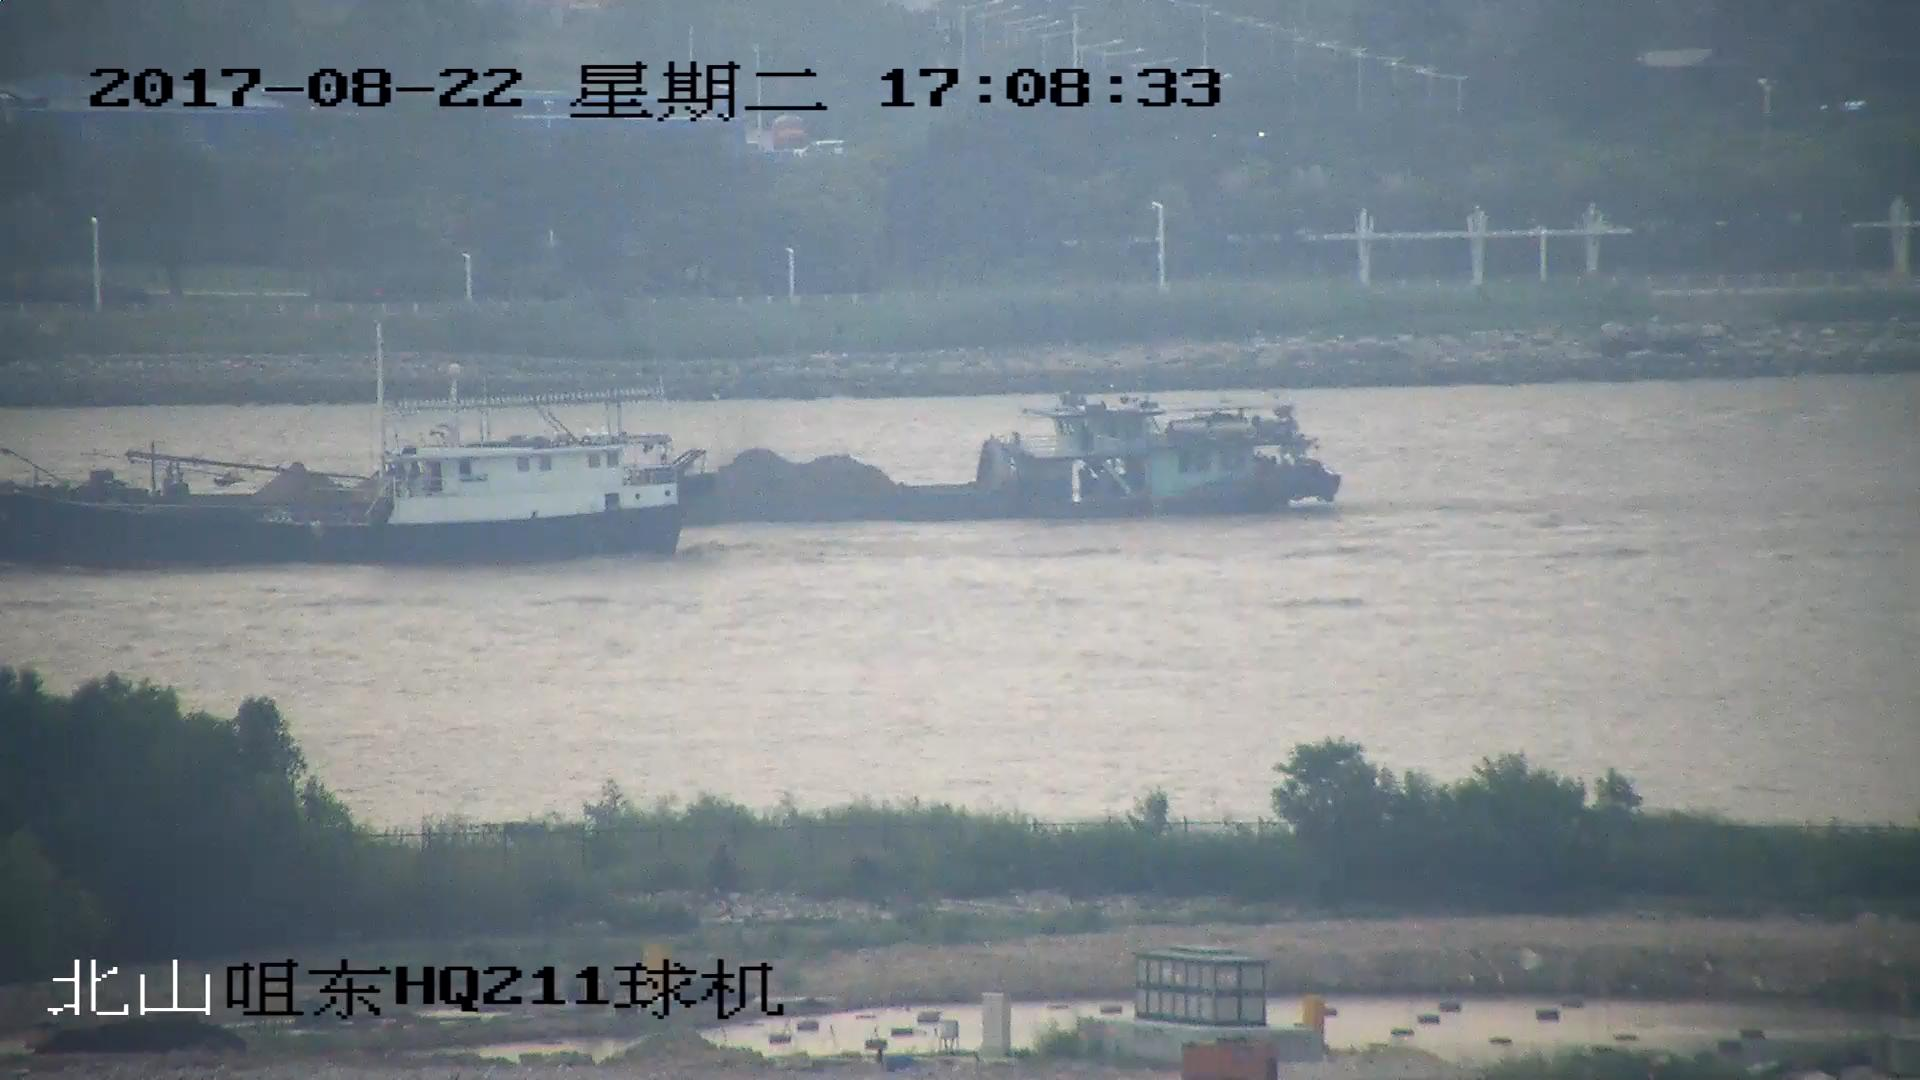fishing boat: (1, 369, 685, 569)
ore carrier: (1, 394, 1342, 524)
